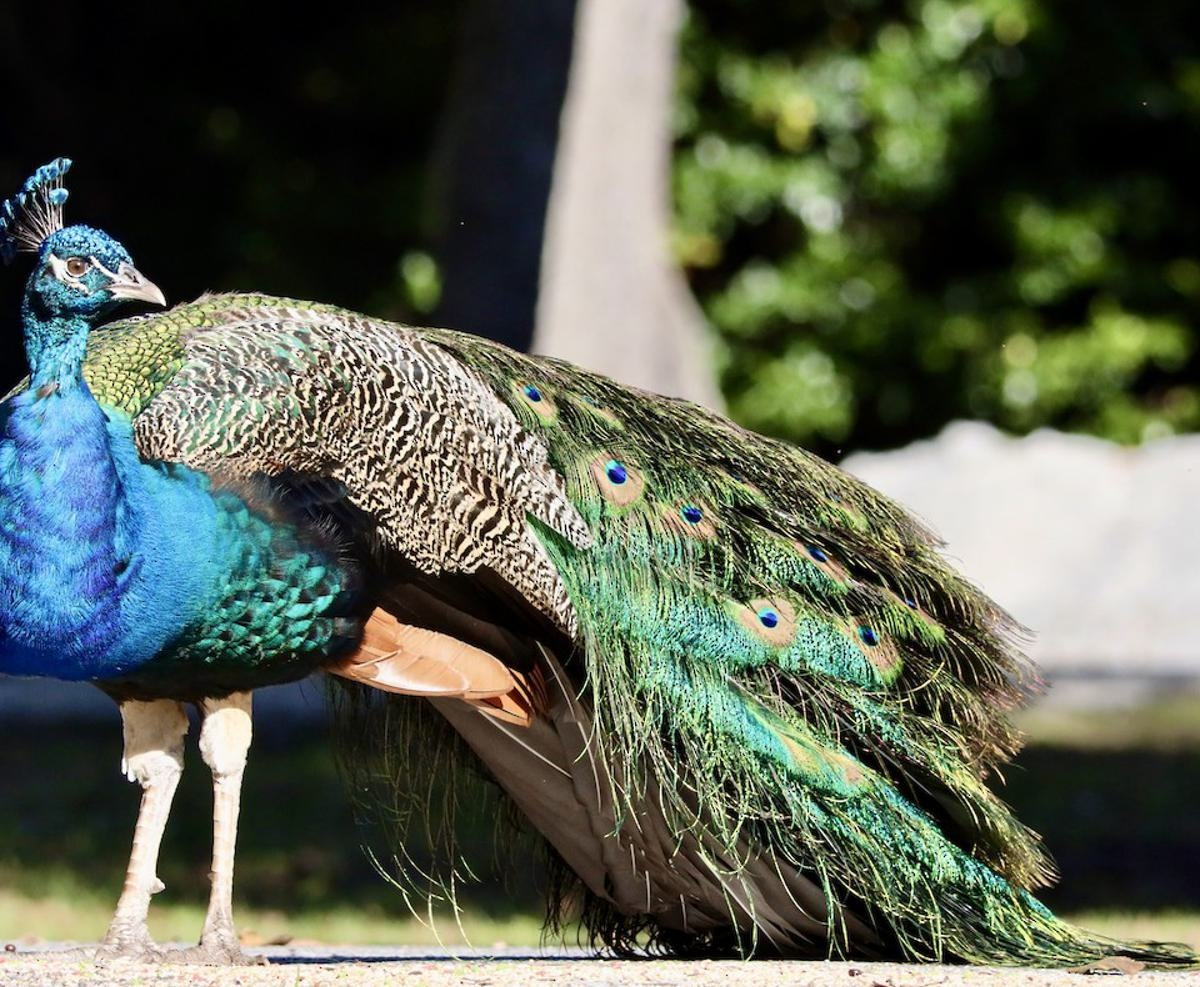peacock: (10, 145, 925, 881)
